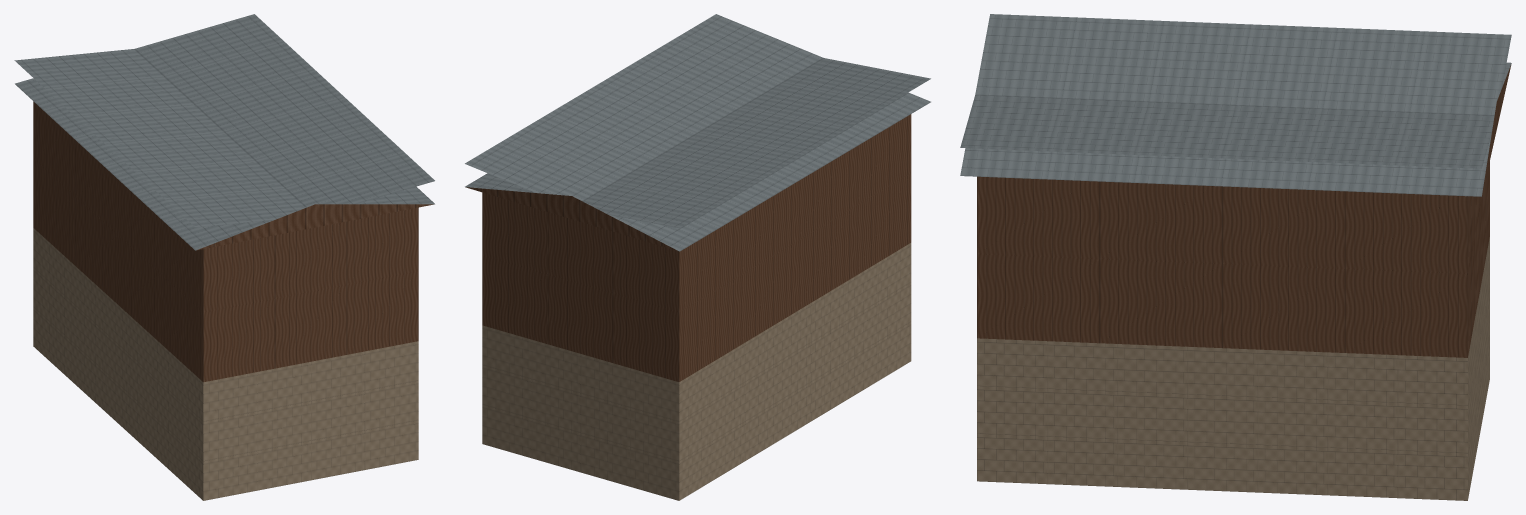
File: bld_c32_-38_448.gltf
The picture shows the model from 3 angles, left to right: view 1: azimuth 30°, elevation 25°; view 2: azimuth 150°, elevation 25°; view 3: azimuth 270°, elevation 25°; orthographic projection. The views are drawn at different scales.
Visible parts, largest first — view 1: bld_c32_-38_448; view 2: bld_c32_-38_448; view 3: bld_c32_-38_448.
Part boxes in pixels (<box>): bld_c32_-38_448: <box>14,14,434,500</box>; bld_c32_-38_448: <box>465,14,930,500</box>; bld_c32_-38_448: <box>960,14,1511,500</box>.
Size of the model in its own units: 11.84 by 12.1 by 17.82.
4 materials, 4 textured.
